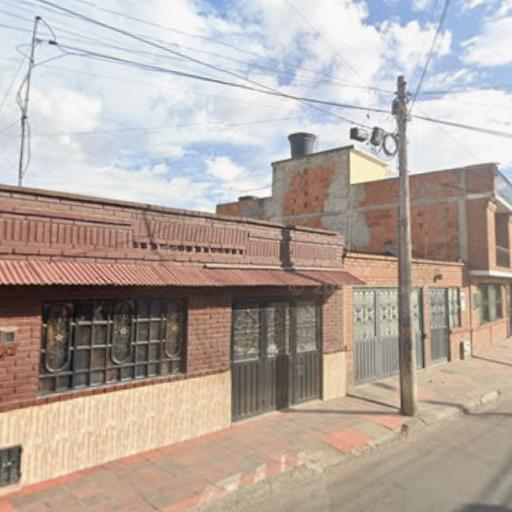poste: (384, 67, 434, 426)
